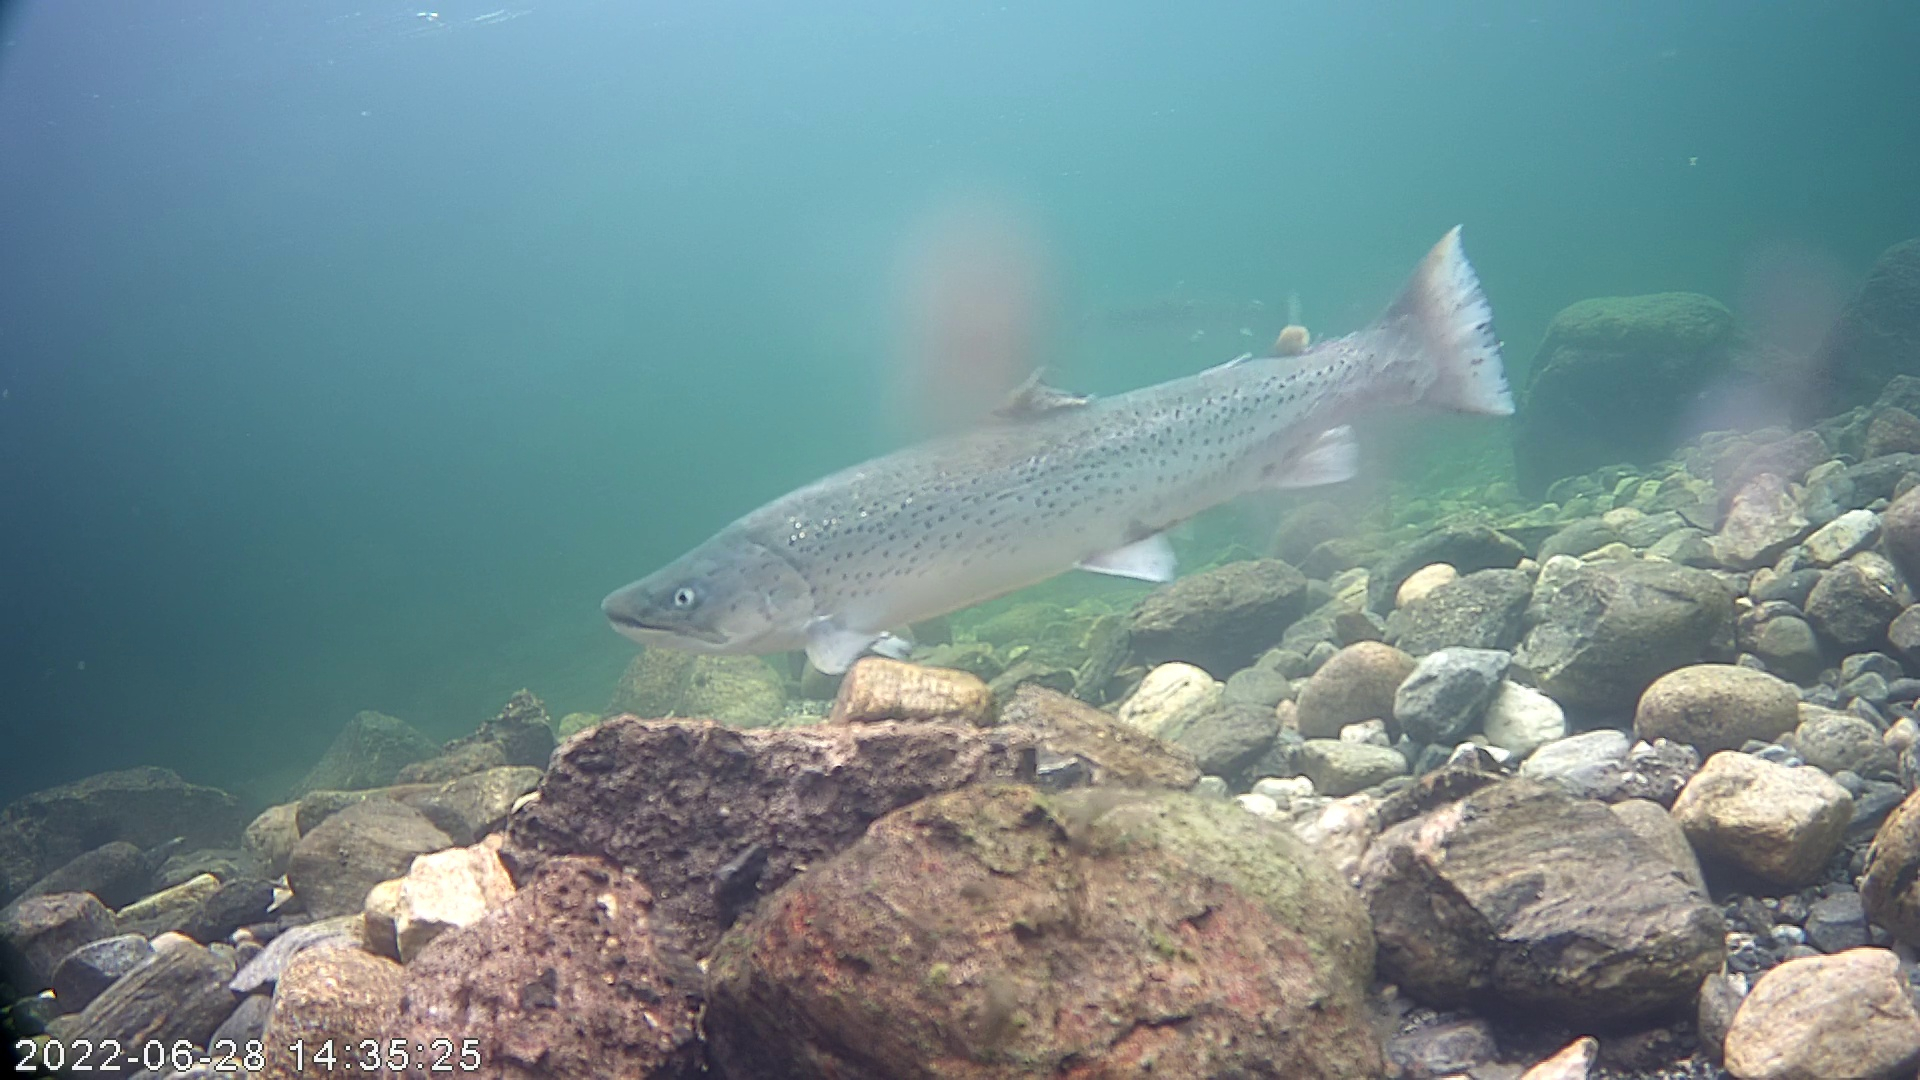salmon: (637, 198, 1545, 684)
